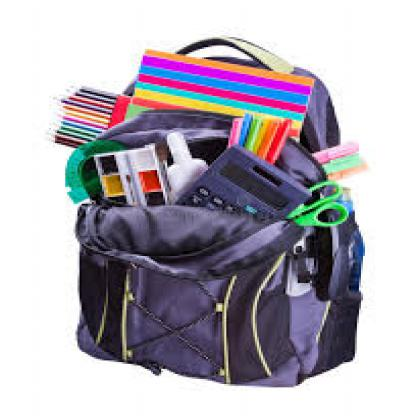morral: (53, 133, 390, 394)
